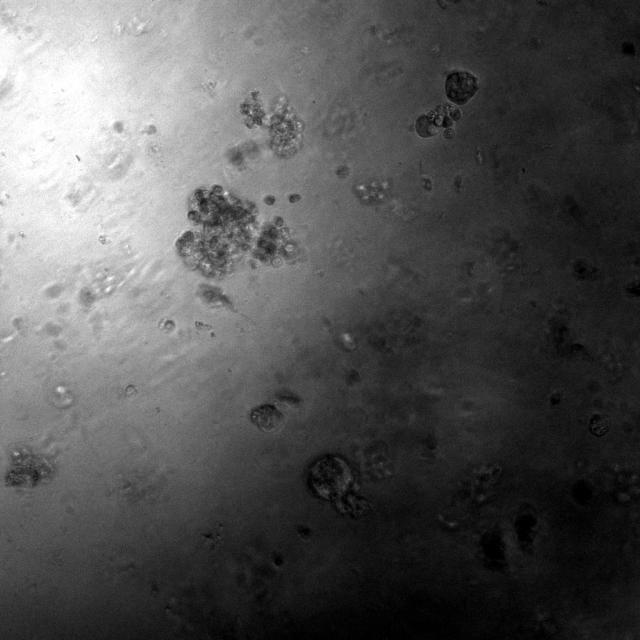organoid: (175, 185, 298, 277), (438, 465, 539, 569), (415, 71, 478, 137), (240, 90, 302, 157), (308, 453, 368, 517), (5, 447, 51, 487), (362, 443, 392, 480), (353, 179, 392, 204), (251, 403, 283, 432), (589, 409, 612, 436), (336, 165, 349, 177), (263, 194, 274, 204), (289, 194, 301, 203)
